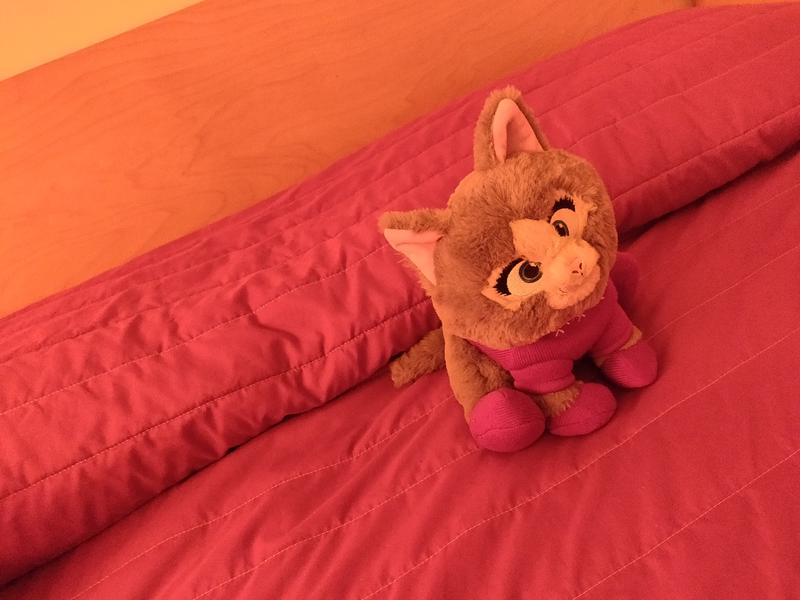kitten: (360, 85, 686, 459)
